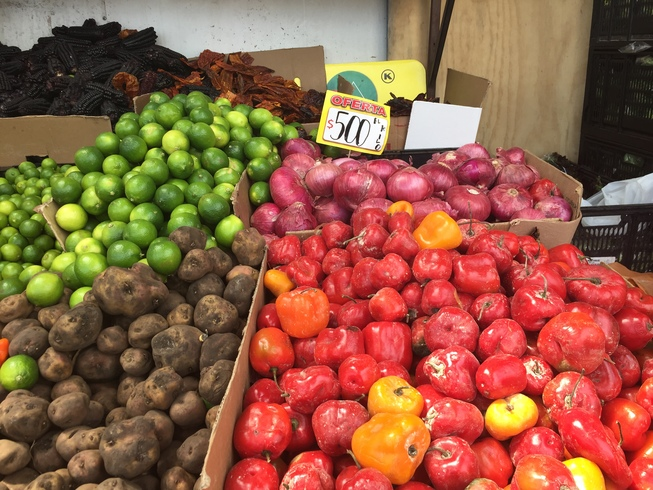precio: (312, 83, 387, 160)
